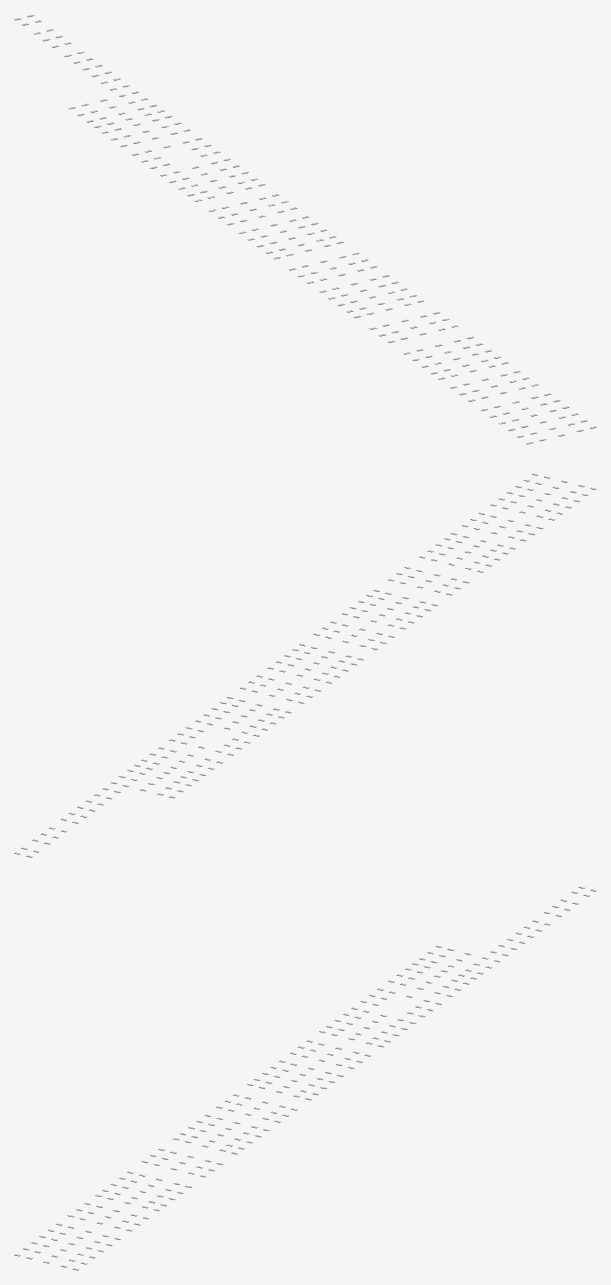
The model's file is 22b1lights.glb.
3 views of the same model, one above another, from view 1: azimuth 30°, elevation 25°; view 2: azimuth 150°, elevation 25°; view 3: azimuth 330°, elevation 25° (orthographic). The views are drawn at different scales.
Visible parts, largest first — view 1: Deng; view 2: Deng; view 3: Deng.
Part boxes in pixels (x1,y1,x2,y2): Deng: (14,15,596,444); Deng: (14,473,596,857); Deng: (14,886,596,1270).
Size of the model in its own units: 18.58 by 0.0803 by 261.
2 materials, 1 textured.
